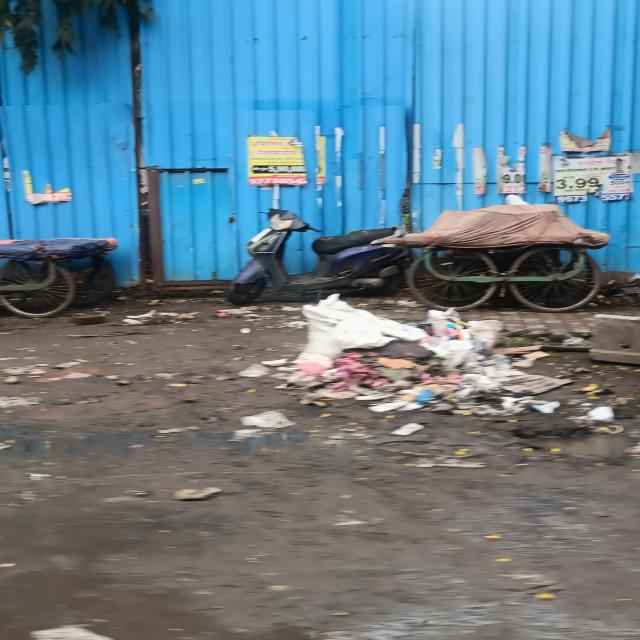garbage: (304, 293, 566, 429)
